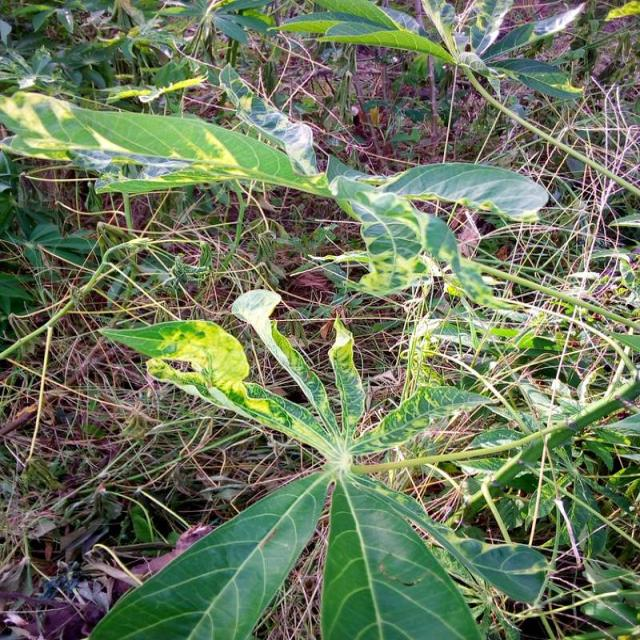cassava leaf: (87, 287, 549, 638), (86, 467, 332, 638), (320, 469, 485, 638), (96, 318, 250, 402)
